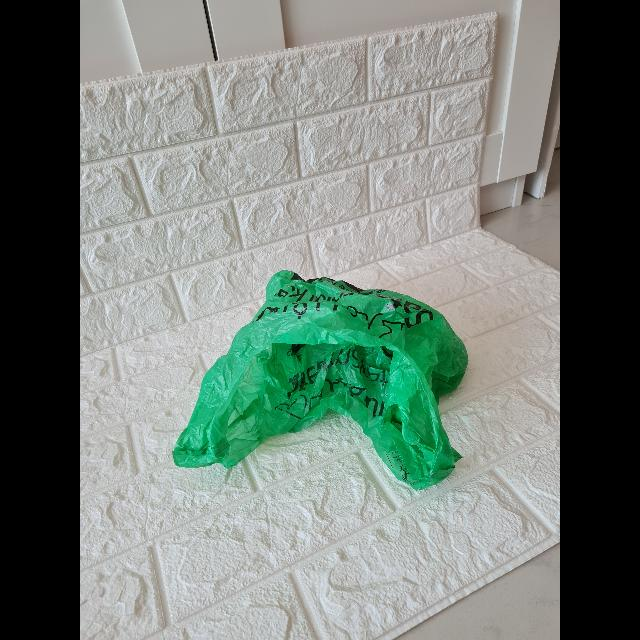plastic_bag: (163, 264, 482, 516)
